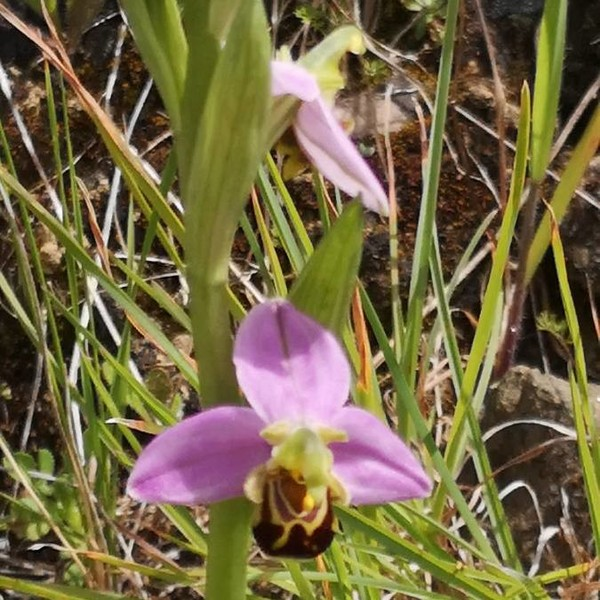obstacle: (79, 12, 463, 593)
